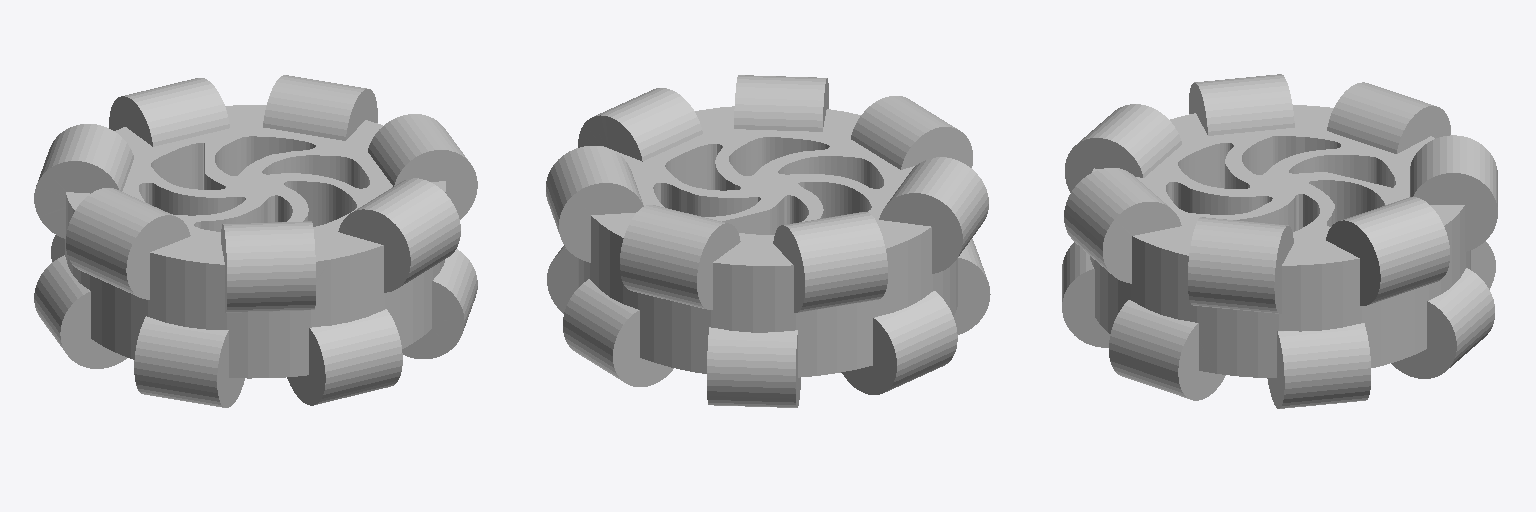
Rendered from virhas_wheel.obj.
The picture shows the model from 3 angles: view 1: azimuth 30°, elevation 25°; view 2: azimuth 150°, elevation 25°; view 3: azimuth 270°, elevation 25°; orthographic projection.
Visible parts, largest first — view 1: obj_0; view 2: obj_0; view 3: obj_0.
Boxes of the visible parts, box(x1,y1,x2,y2) form: obj_0: box(34, 75, 477, 407); obj_0: box(546, 75, 990, 407); obj_0: box(1062, 74, 1497, 408).
Size of the model in its own units: 70 by 35.51 by 68.58.